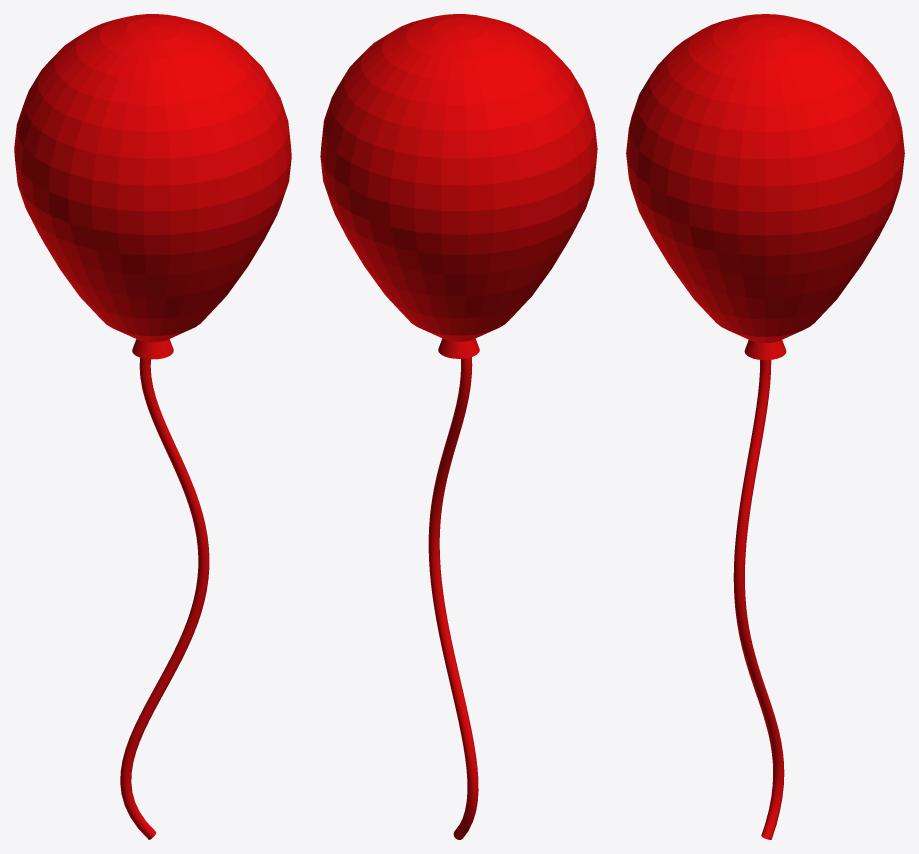
Rendered from BalloonModelRed.gltf.
3 renders of one model, left to right at view 1: azimuth 30°, elevation 25°; view 2: azimuth 150°, elevation 25°; view 3: azimuth 270°, elevation 25°, orthographic.
Parts seen in each view (by area): view 1: BalloonObject; view 2: BalloonObject; view 3: BalloonObject.
Boxes of the visible parts, left/top/right/bottom form: BalloonObject: left=14, top=14, right=291, bottom=839; BalloonObject: left=320, top=14, right=597, bottom=839; BalloonObject: left=626, top=14, right=904, bottom=839.
Size of the model in its own units: 2 by 6.45 by 2.
